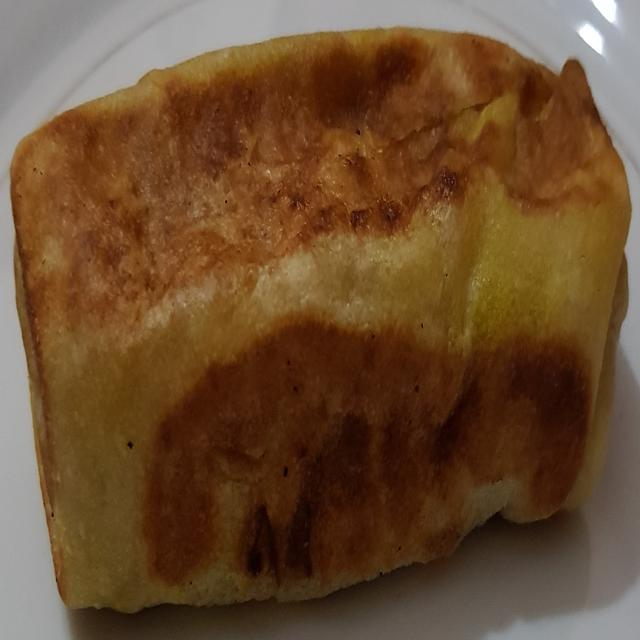Chicken Rotti: (8, 25, 632, 616)
